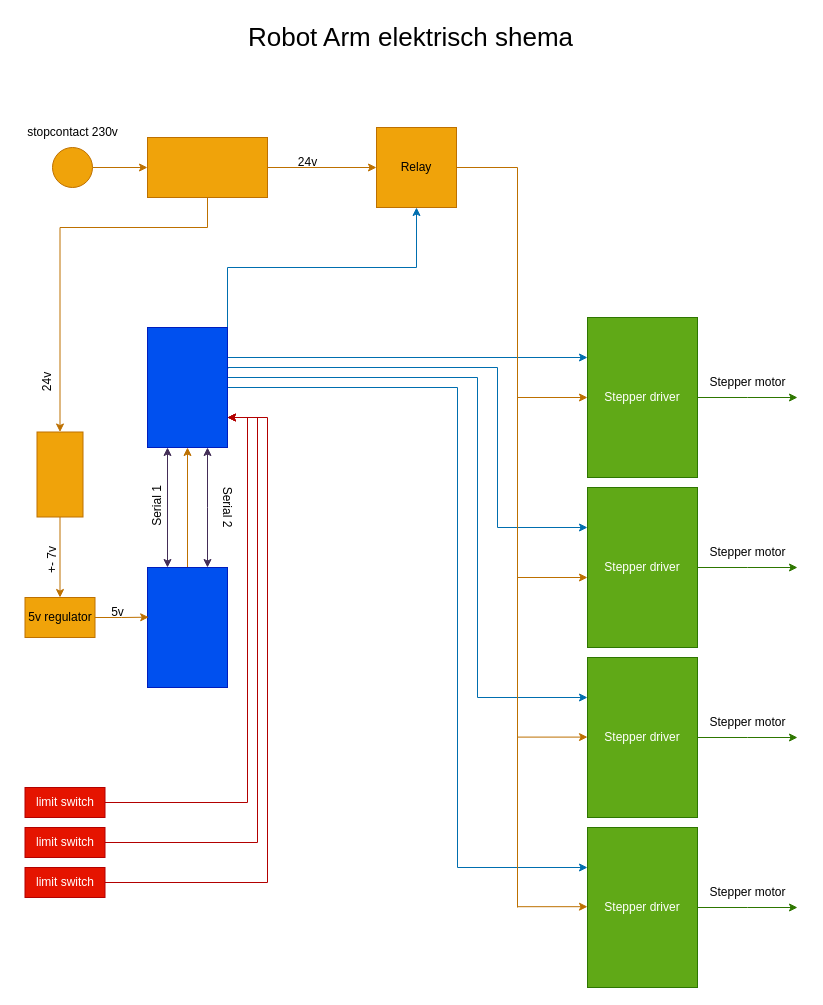
Image size: 823x1005. Some labels were removed from this diagram. The shapes that lost their labels are listed below. From the top down, each one's centre as x and y in pixels, then its label:
pixel 207 167: 24V voeding
pixel 187 387: Arduino Mega
pixel 59 474: DC Step down
pixel 187 627: Wemos D1 mini
